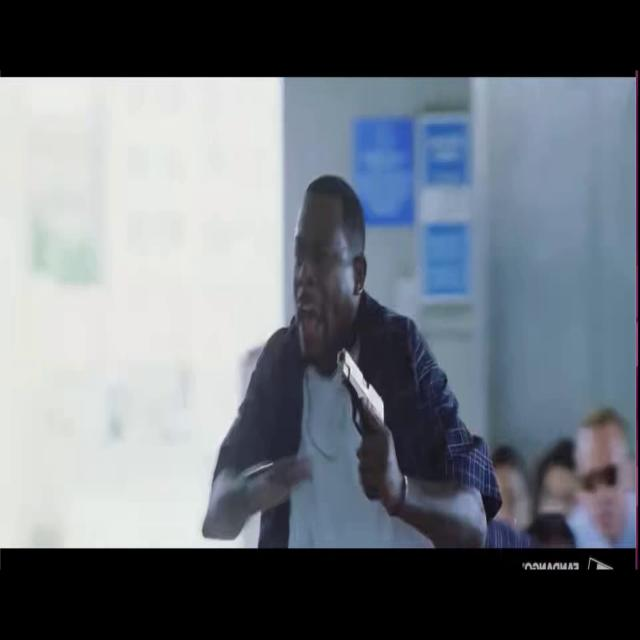weapons: (331, 338, 397, 500)
